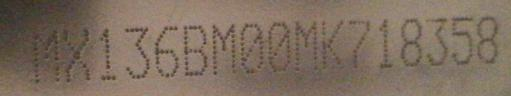letter: (121, 22, 154, 78), (28, 28, 61, 81), (64, 25, 95, 81), (179, 22, 208, 76), (209, 23, 239, 75), (151, 22, 179, 76), (475, 13, 504, 63), (346, 17, 373, 68), (293, 18, 319, 70), (266, 20, 292, 72), (319, 18, 345, 69), (449, 16, 475, 66), (240, 21, 265, 73), (96, 26, 119, 81), (426, 15, 451, 63), (400, 18, 424, 65), (375, 18, 396, 71)
